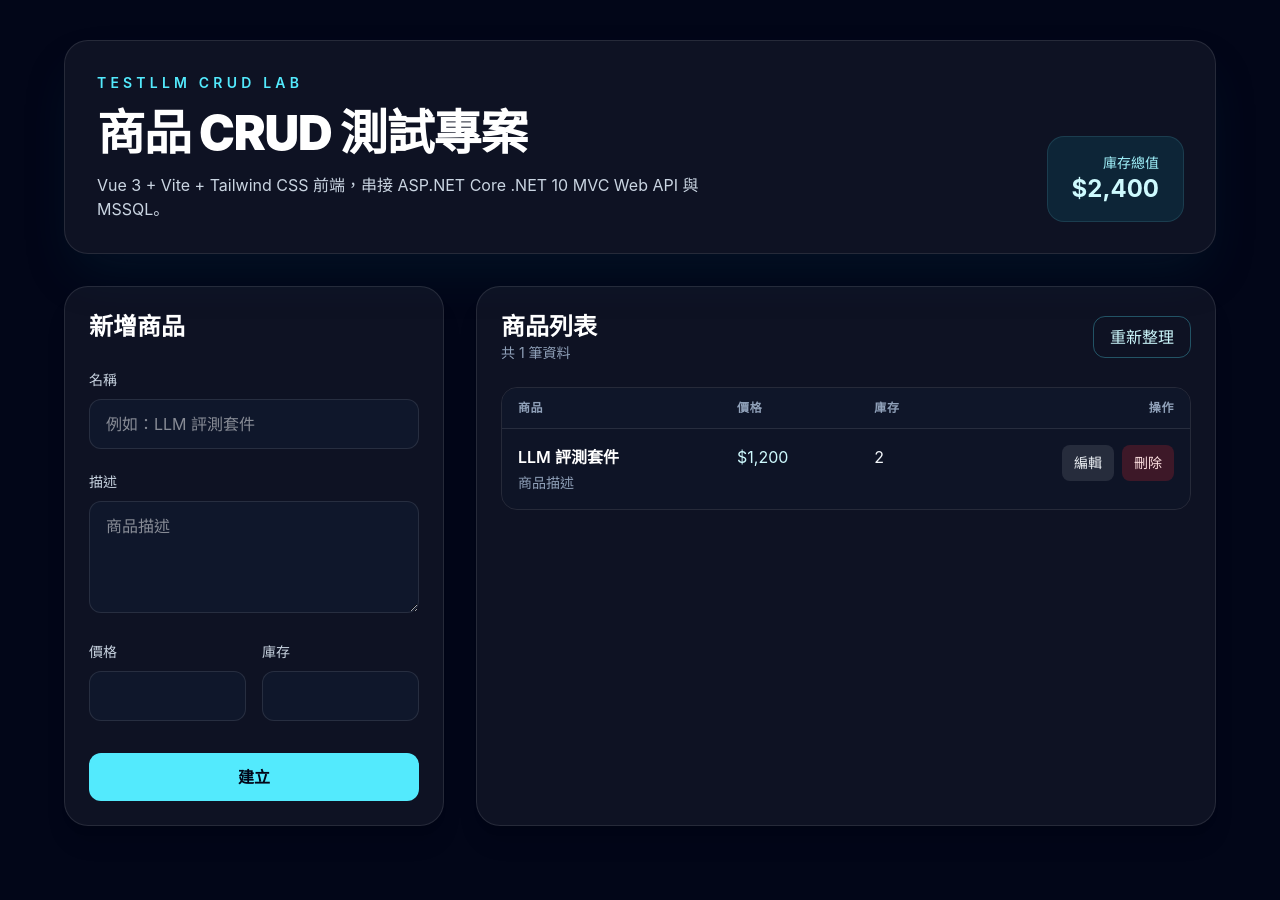
Test: App › updates a product after entering edit mode
Click the button "編輯" at (1088, 463), box [1062,445,1114,481]
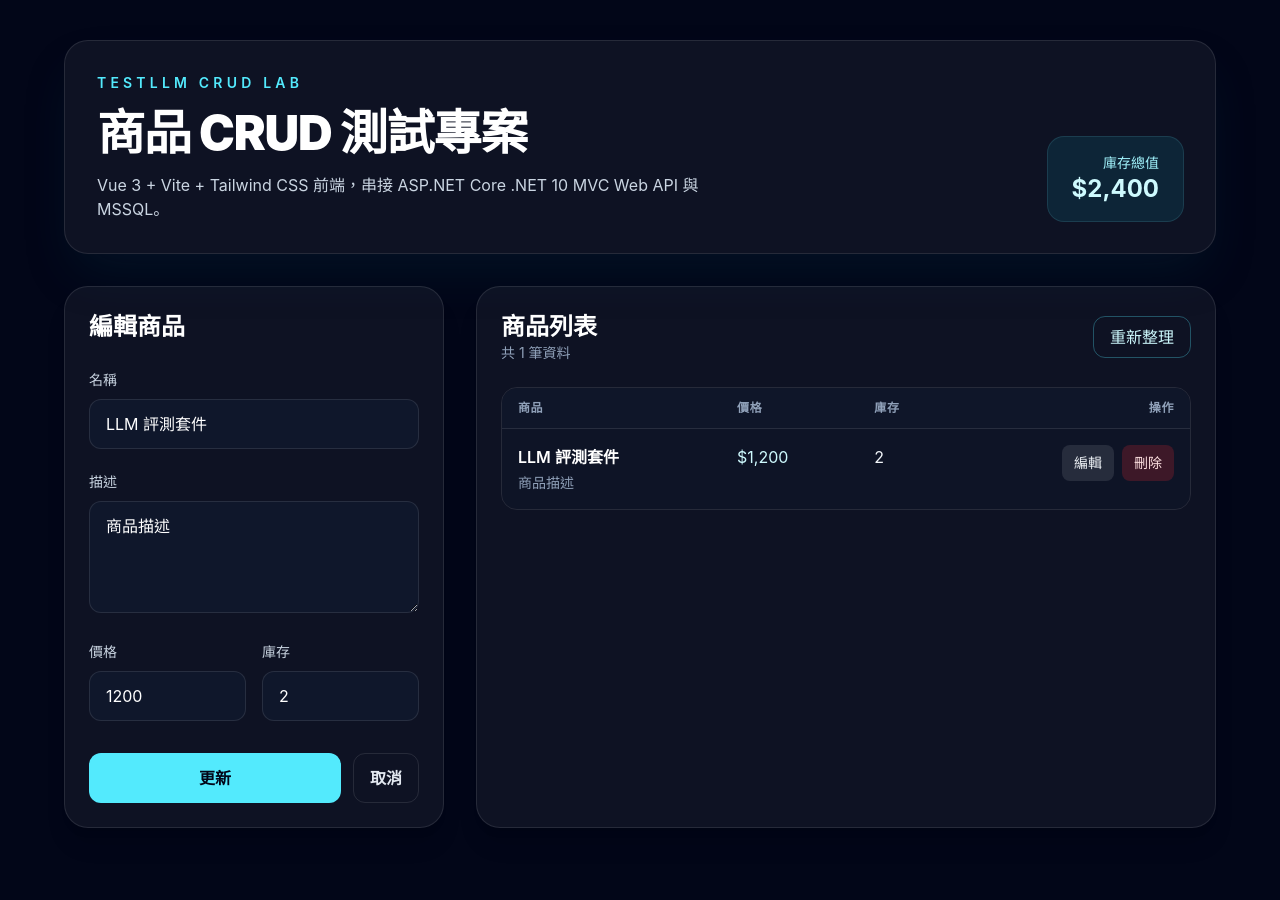
Replace the text in the field with placeholder "例如：LLM 評測套件" with "  更新後商品  " at (254, 424), box [89,399,419,449]
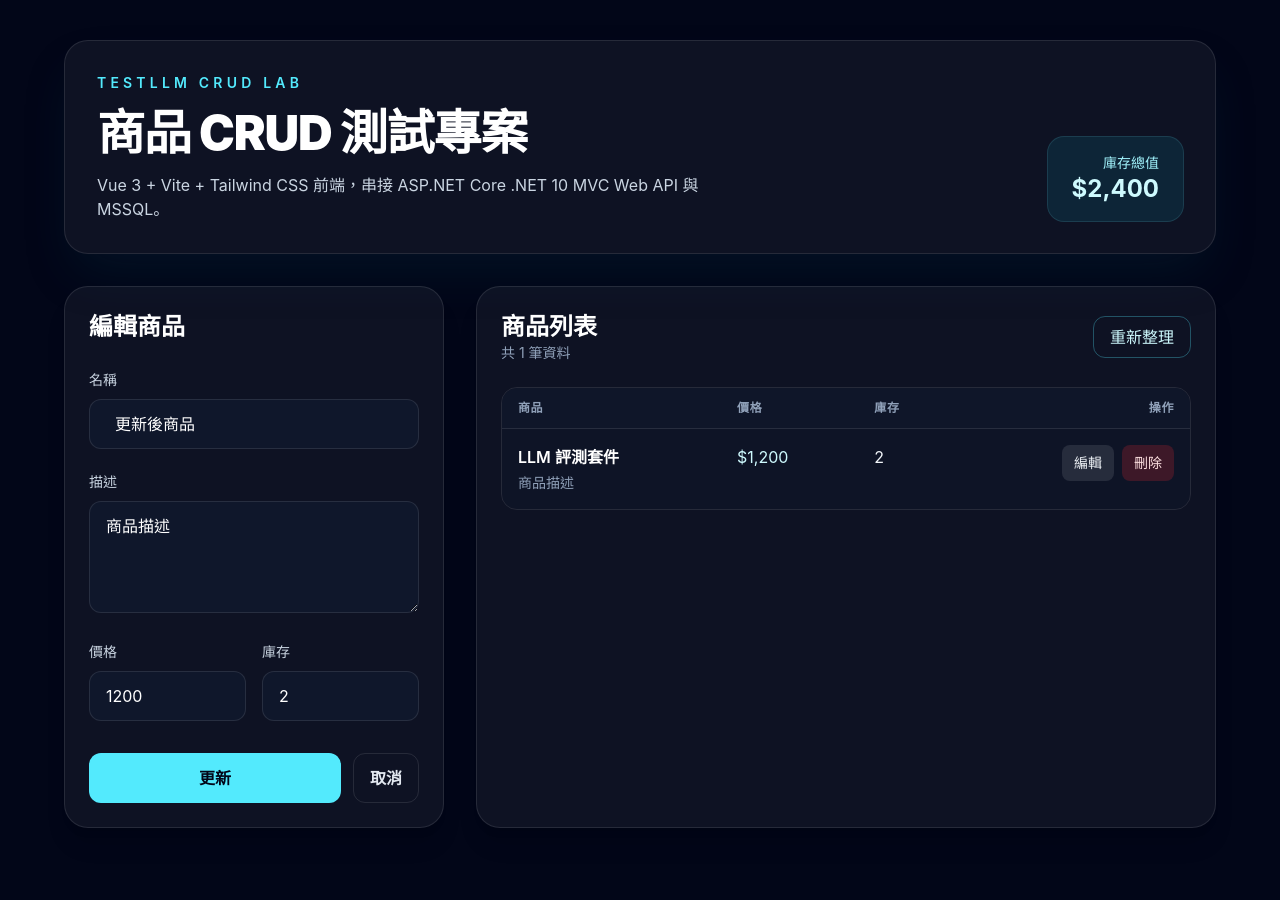
Type "  更新後描述  " into the text box labelled "描述" at (254, 557), box [89,501,419,613]
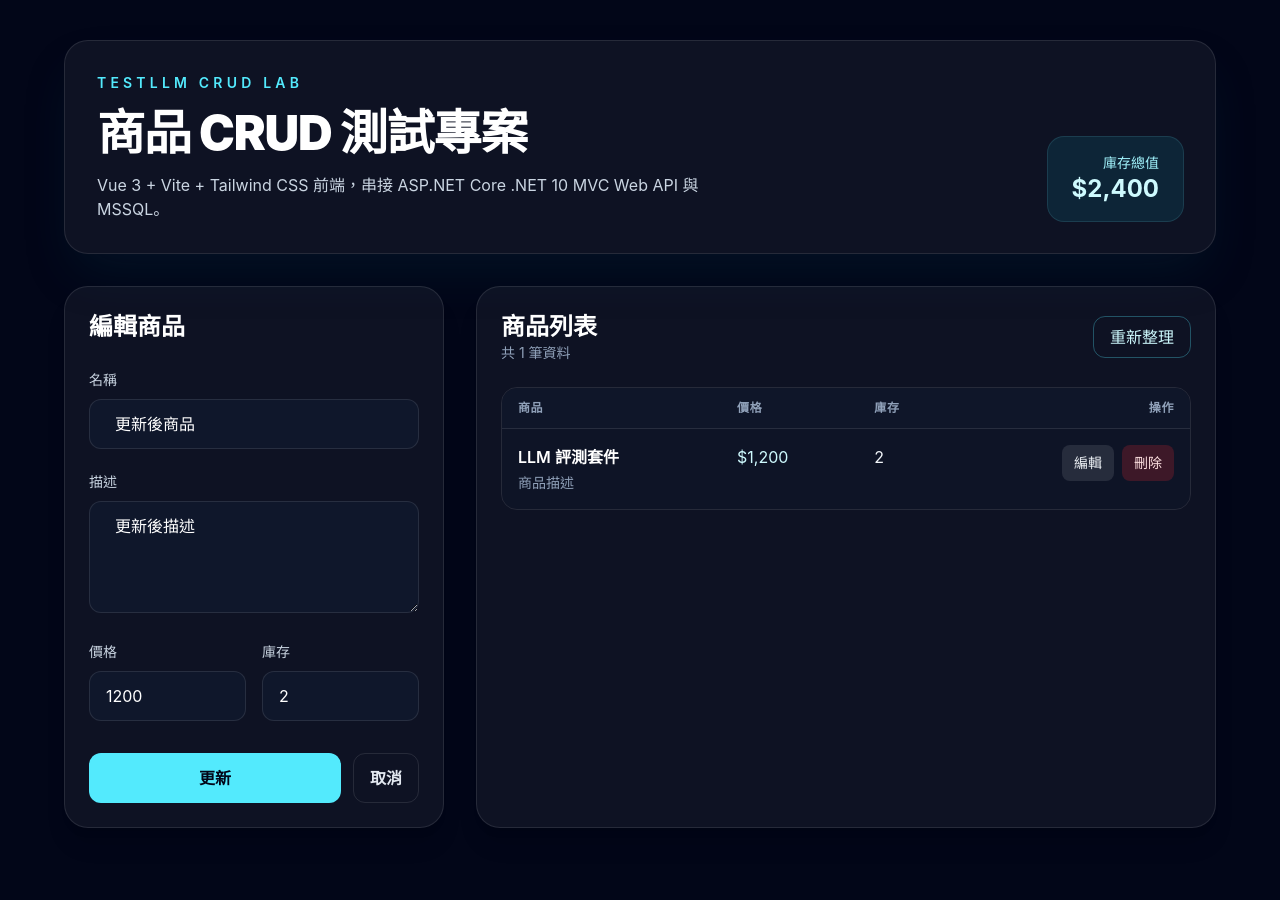
Replace the text in the number field labelled "價格" with "1500" at (168, 696), box [89,671,246,721]
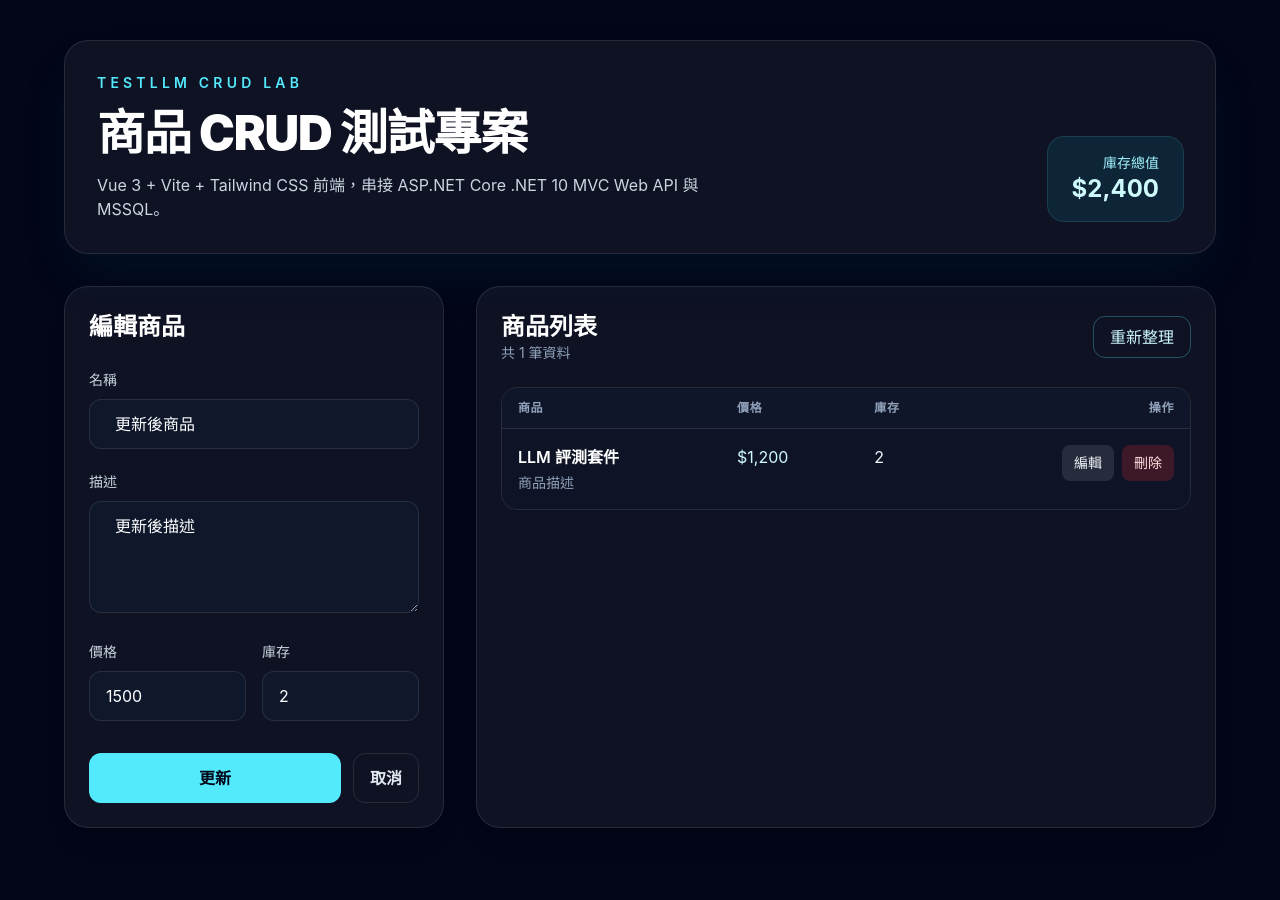
Replace the text in the number field labelled "庫存" with "9" at (340, 696), box [262,671,419,721]
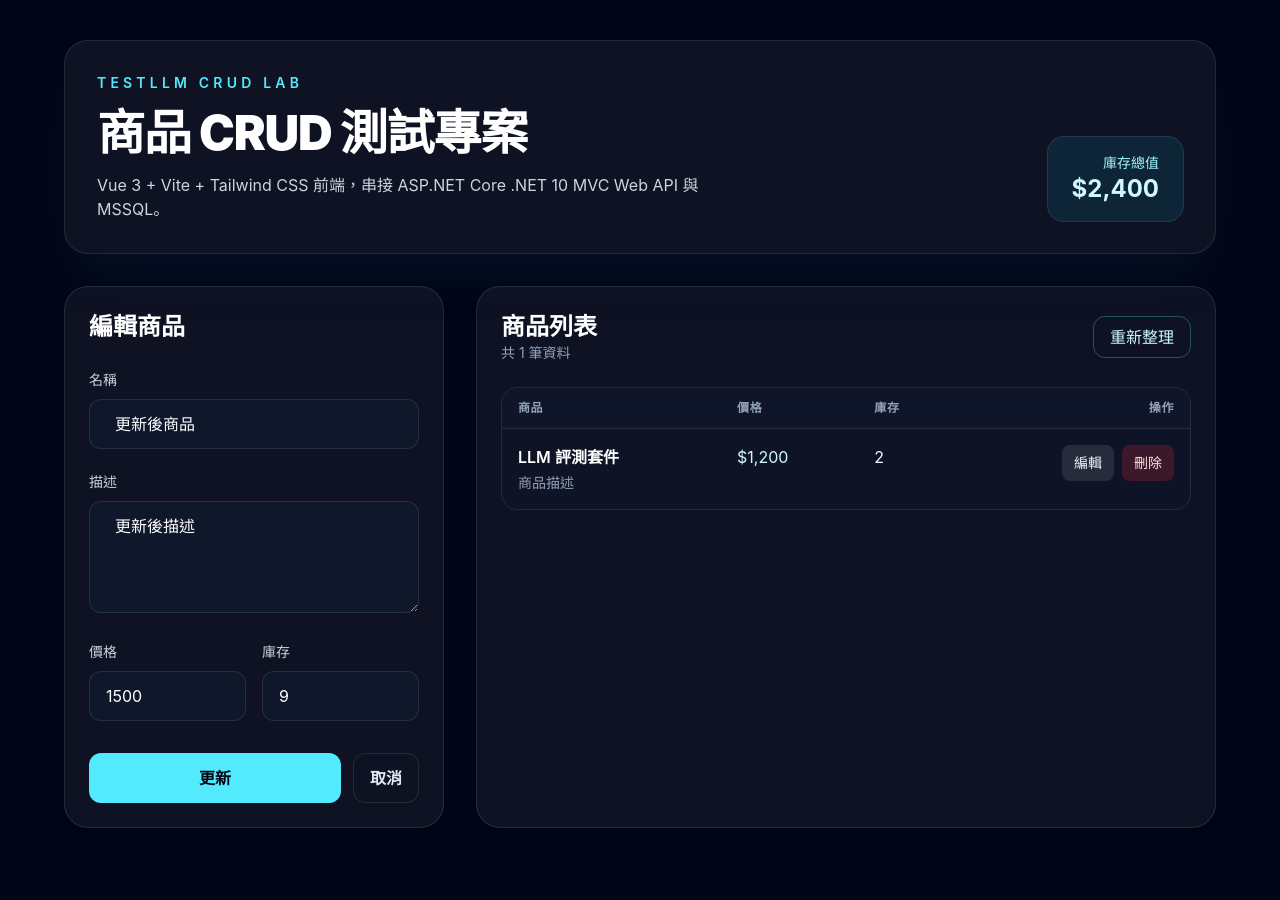
Submit the form, box [64,286,444,828]
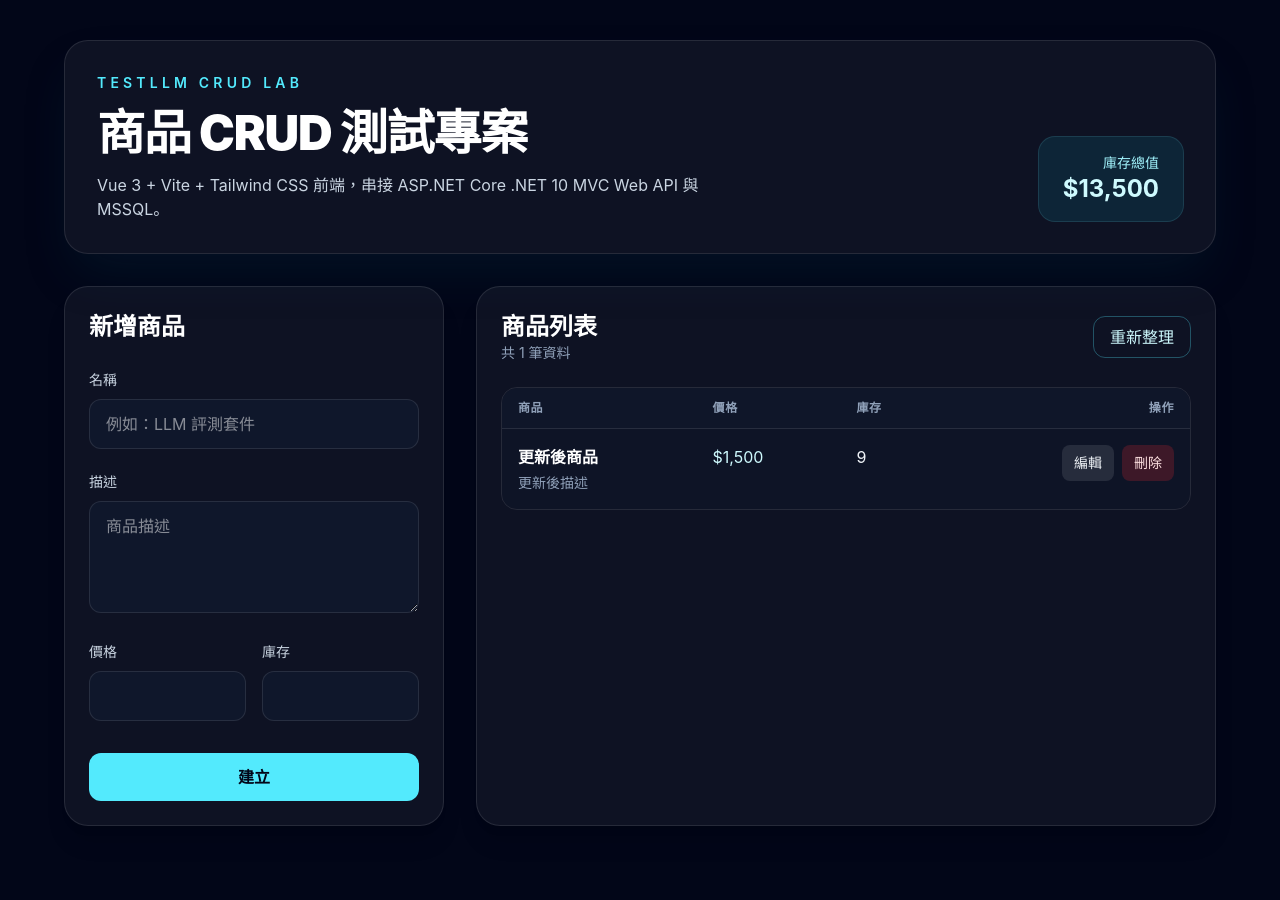
Expected: the text "更新後商品" is shown, [518,447,598,467]
